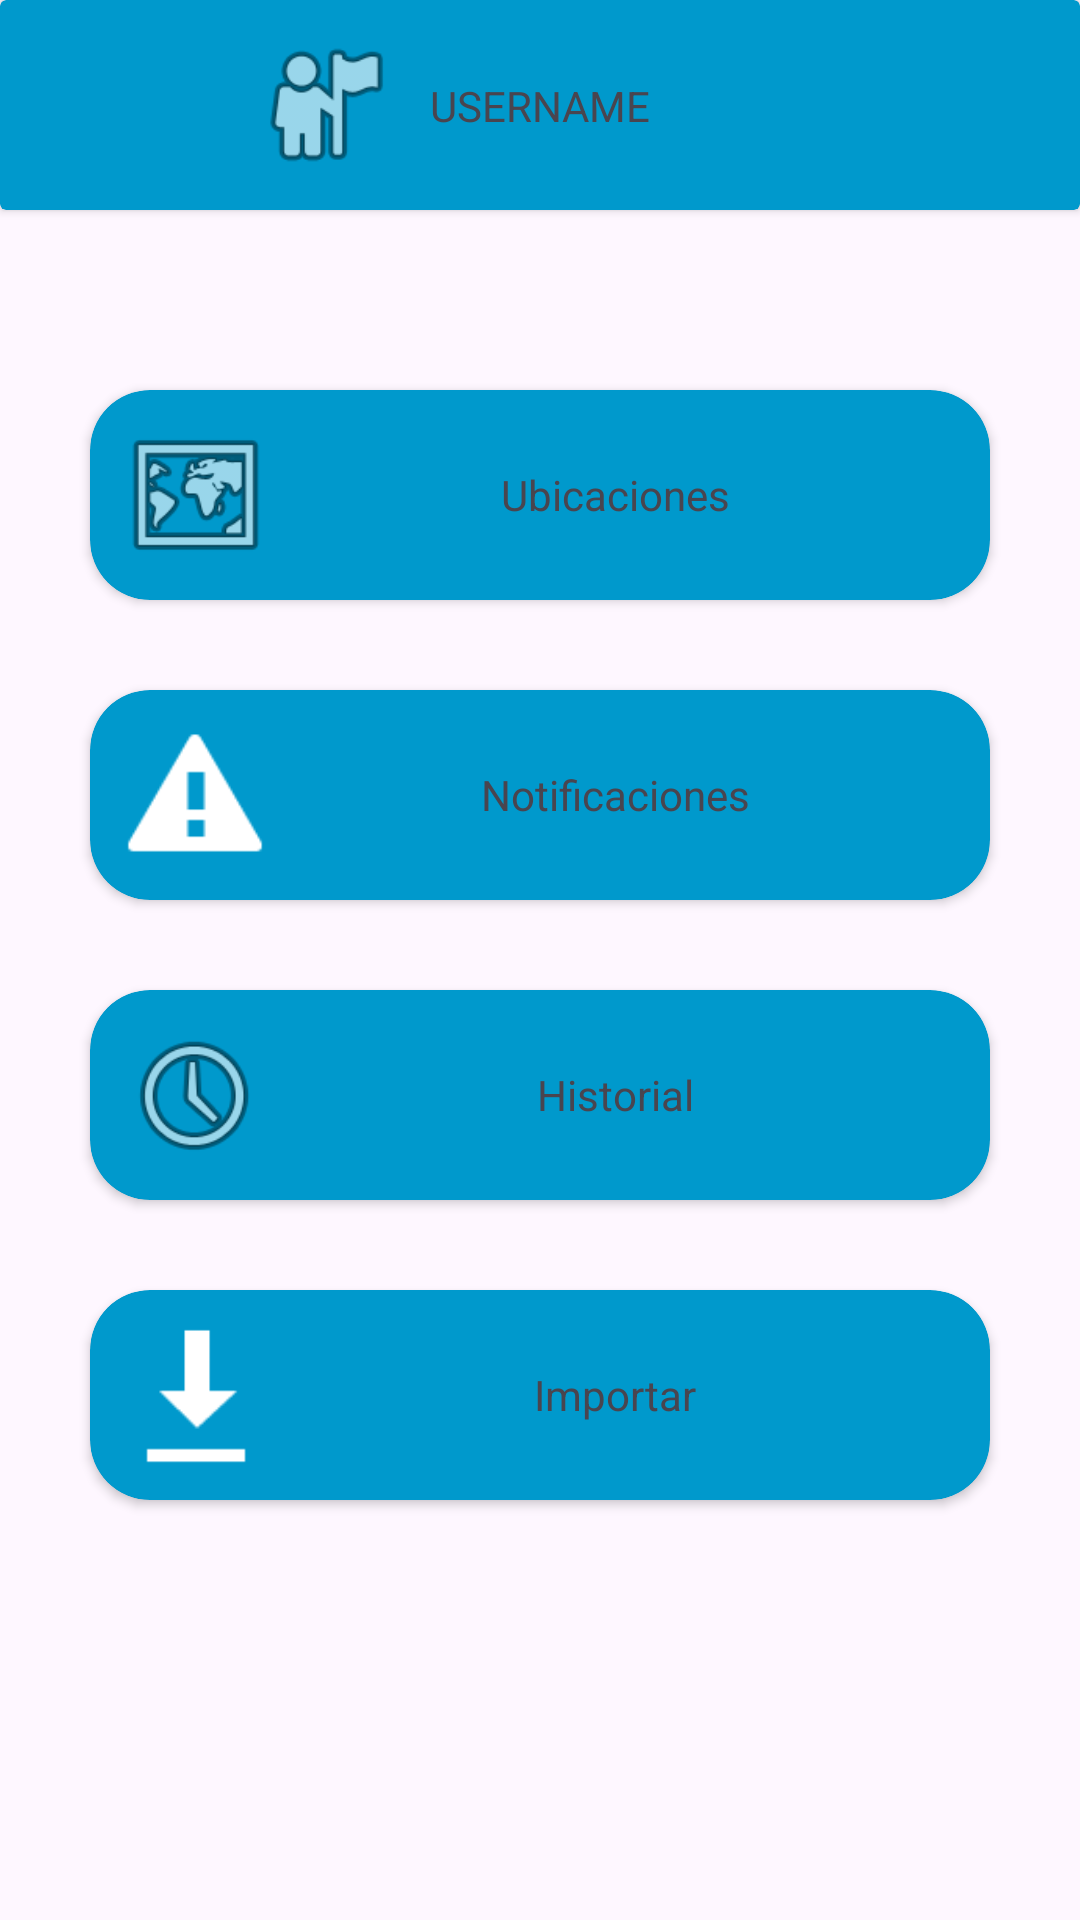

Icons on this 1080x1920 Android screen, each with the point to tap as [x,y]:
download done: [196,1396]
error: [195,793]
mapmode: [195,495]
myplaces: [326,105]
recent history: [194,1096]
